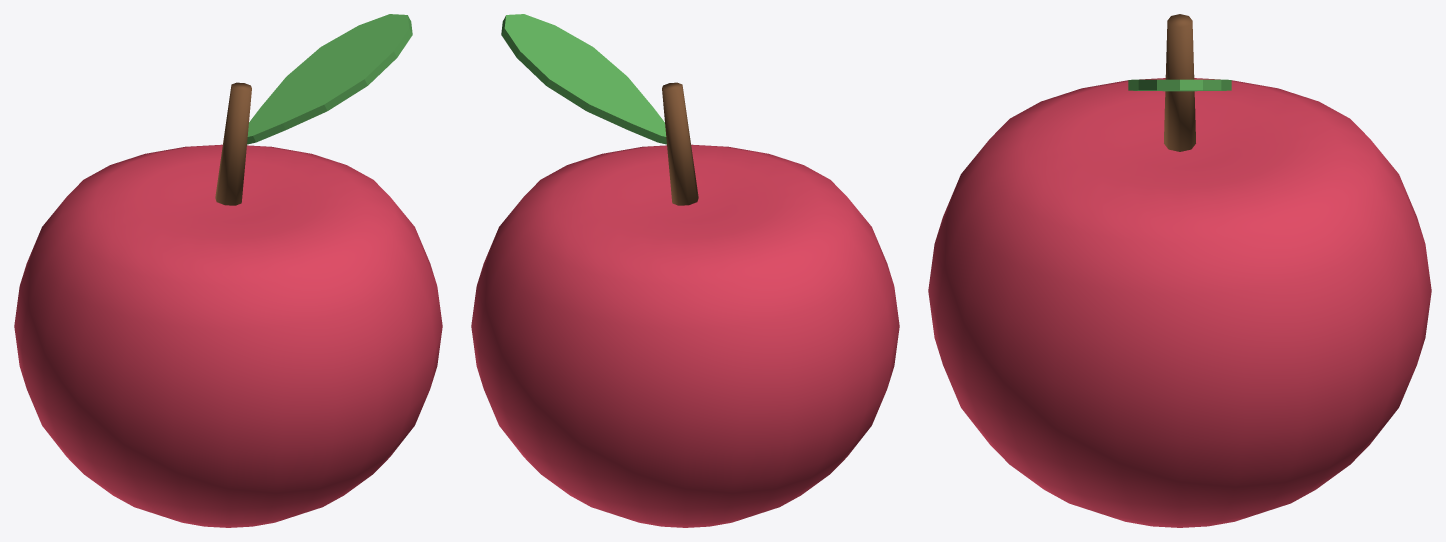
The model's file is fruit-lychee.glb.
3 renders of one model, left to right at view 1: azimuth 30°, elevation 25°; view 2: azimuth 150°, elevation 25°; view 3: azimuth 270°, elevation 25°, orthographic. The views are drawn at different scales.
Visible parts, largest first — view 1: fruit; view 2: fruit; view 3: fruit.
Part boxes in pixels (x1,y1,x2,y2): fruit: (14, 14, 442, 527); fruit: (471, 14, 899, 527); fruit: (928, 14, 1431, 527).
Bounding box in the file's own units: 0.28 × 0.3229 × 0.28.
